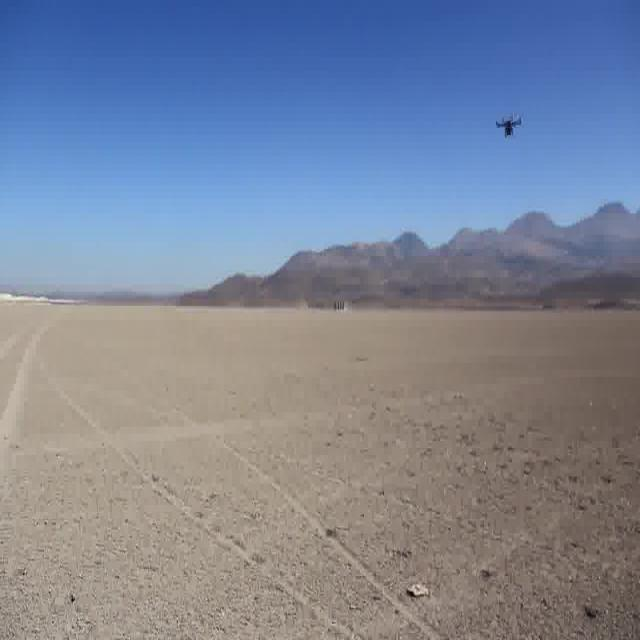Drone_FW: (496, 112, 522, 138)
